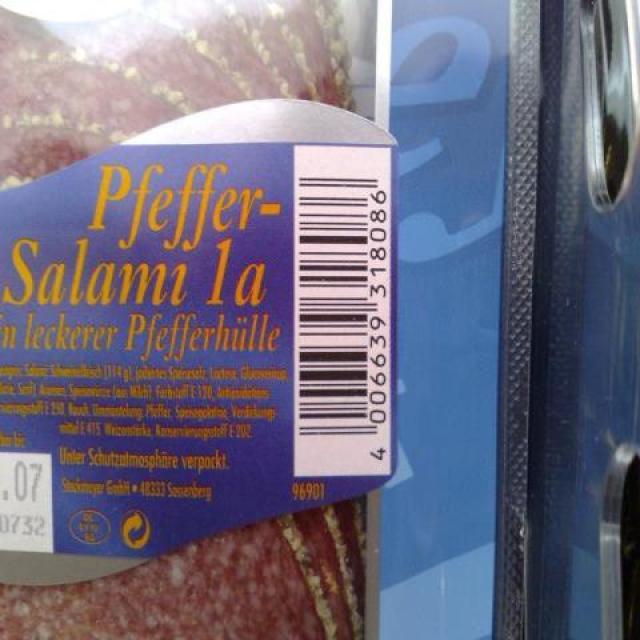Barcode: (294, 145, 390, 475)
